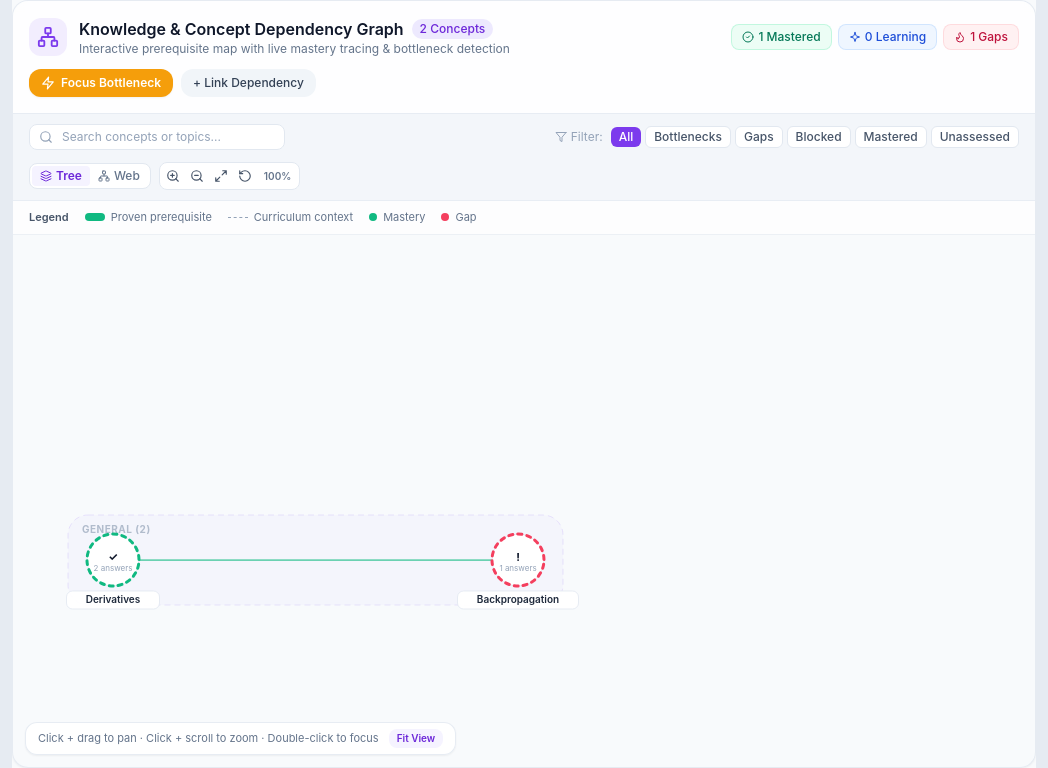
it: KnowledgeGraphView › filters nodes when typing into the search input
The image size is (1048, 768).
In the field with placeholder "Search concepts or topics...": (157, 137) x1=29 y1=124 x2=285 y2=150, type "Deriv"
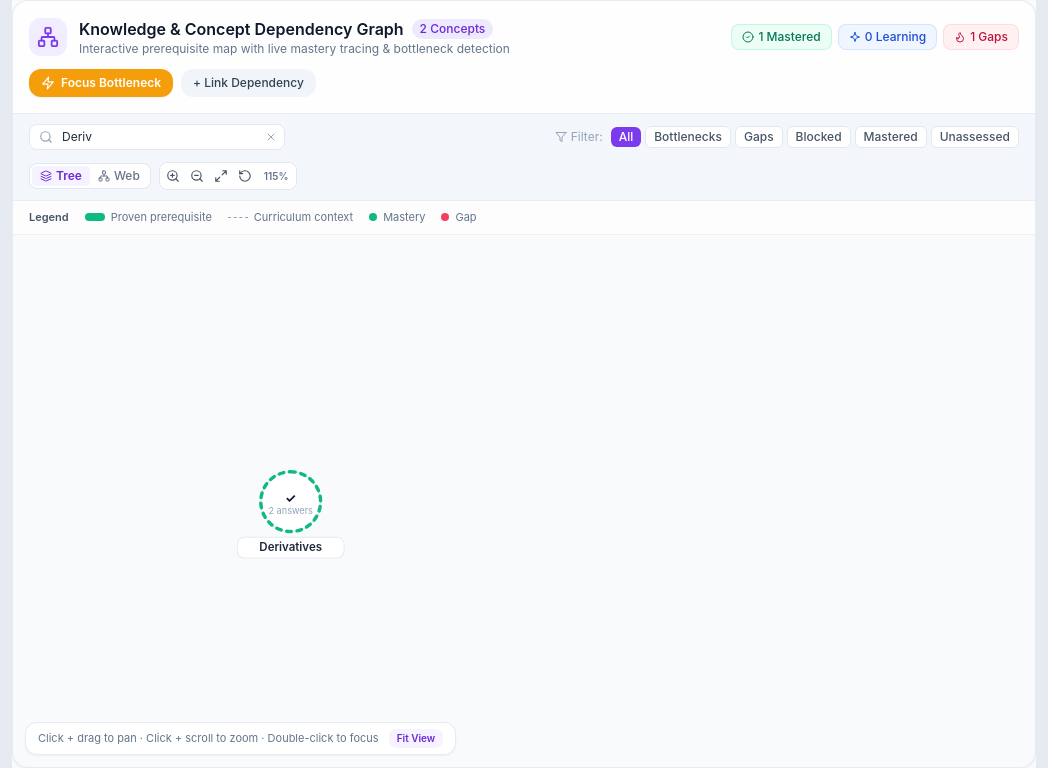
Expected: the text "Derivatives" is shown, x1=259 y1=540 x2=322 y2=554
Result: the icon "Backpropagation" is gone
